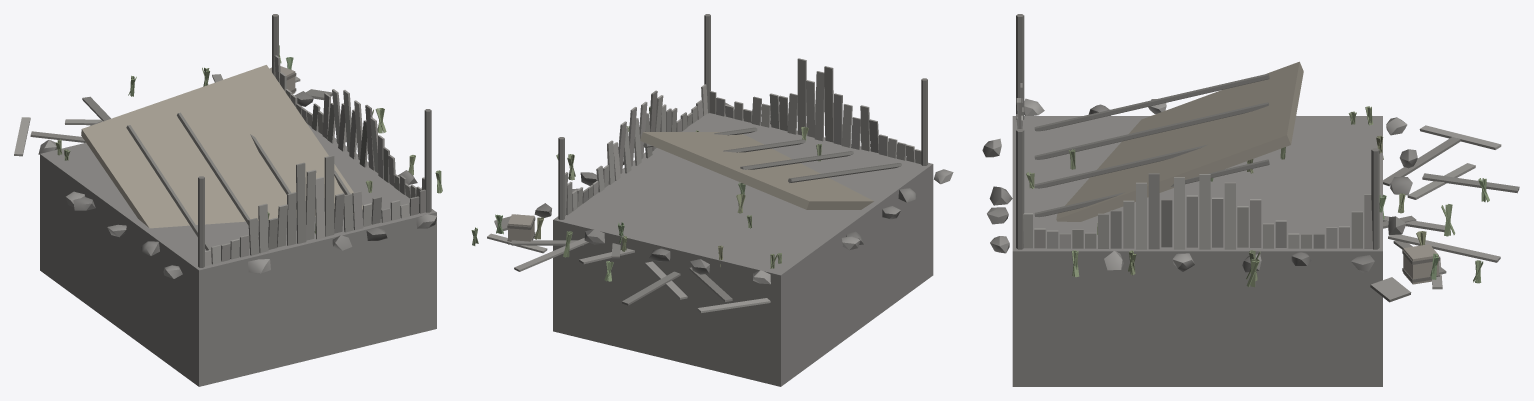
The model's file is trophy_hall_0.gltf.
3 views of the same model, side by side, from view 1: azimuth 30°, elevation 25°; view 2: azimuth 150°, elevation 25°; view 3: azimuth 270°, elevation 25° (orthographic). The views are drawn at different scales.
Visible parts, largest first — view 1: Body; view 2: Body; view 3: Body.
Boxes of the visible parts, left/top/right/bottom form: Body: left=14, top=14, right=442, bottom=386; Body: left=471, top=14, right=953, bottom=386; Body: left=982, top=14, right=1519, bottom=386.
Bounding box in the file's own units: 8.57 × 5.51 × 10.58.
